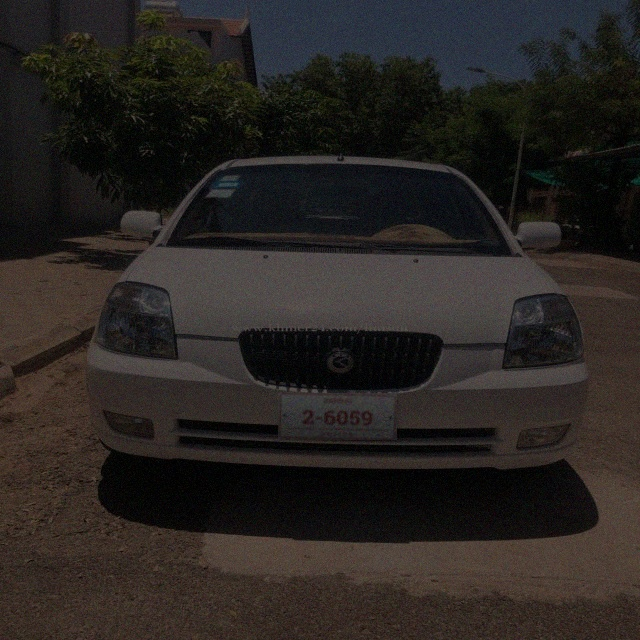Plate Number: (278, 394, 398, 440)
